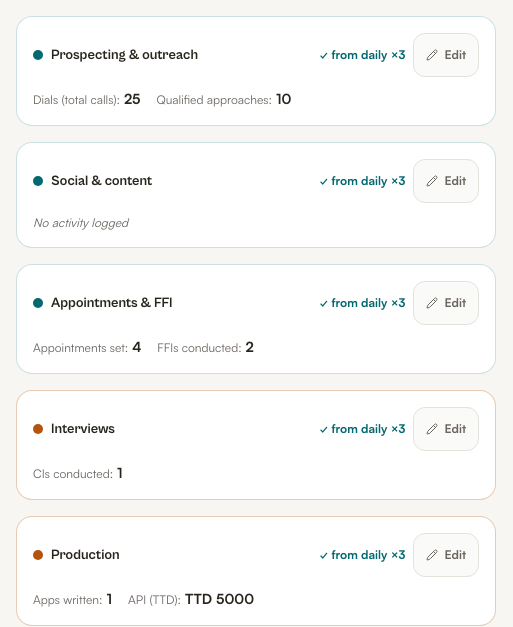
Test: C — edit mode: expand / collapse via Edit / Done › only one section can be in edit mode at a time
Click the button with test id "wcv-section-appointments-edit".
click(446, 303)  # box [413,281,479,325]
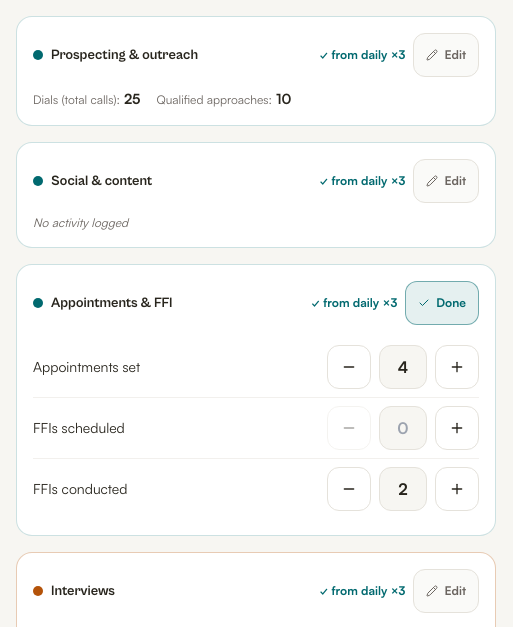
Now the element with test id "wcv-section-appointments-fields" is shown, box [33,337,479,519]
// Open a different section — appointments should close
Click the button with test id "wcv-section-prospecting-edit".
click(446, 55)  # box [413,33,479,77]
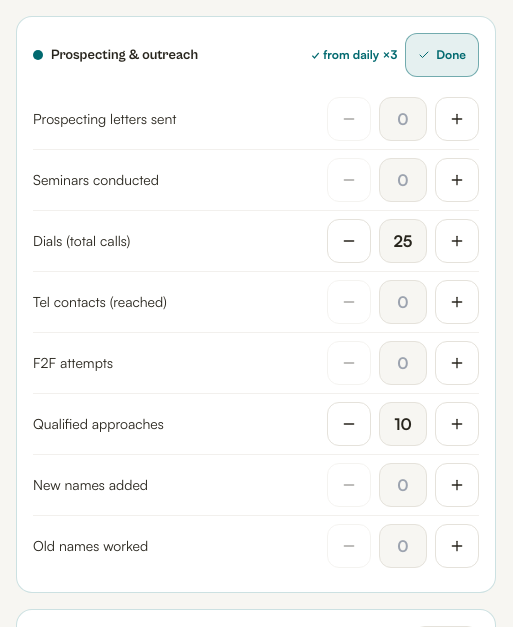
Now the element with test id "wcv-section-prospecting-fields" is shown
